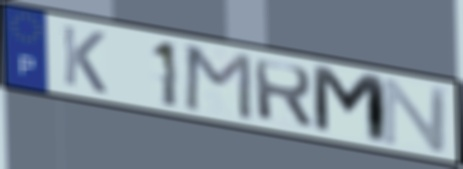1: (149, 39, 181, 109)
K: (59, 22, 110, 97)
M: (309, 62, 392, 149), (181, 43, 256, 124)
N: (380, 76, 451, 155)
R: (250, 56, 316, 131)
